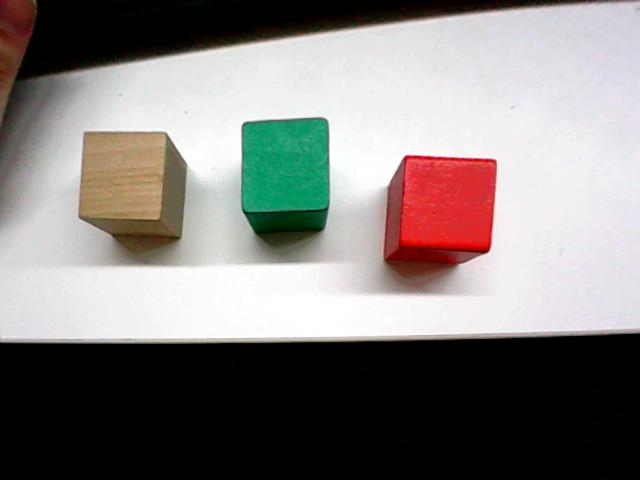green_box: (237, 113, 333, 236)
raw_box: (74, 126, 194, 245)
red_box: (380, 149, 500, 268)
